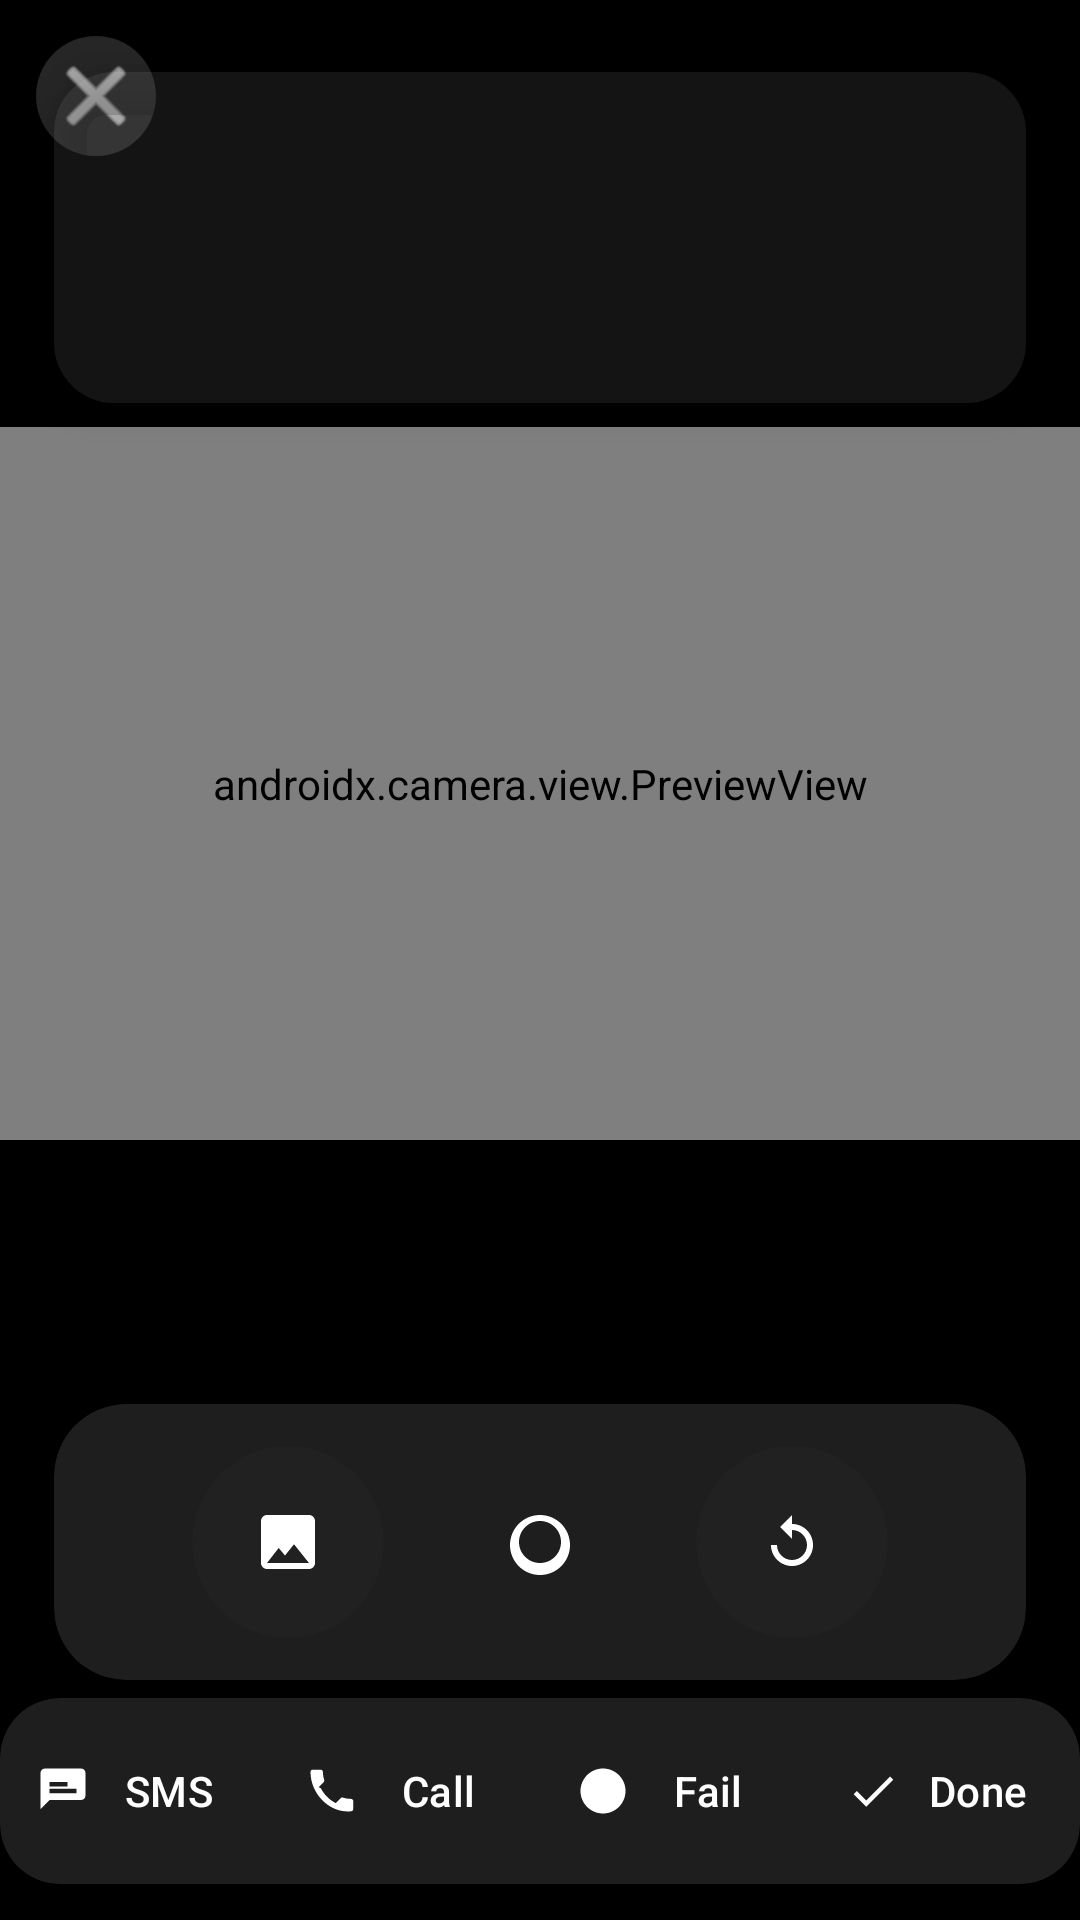

Where to tap for icons on this 1080 × 1920 app screen, as [x,y]:
close clear cancel: [96,96]
gallery: [288,1542]
retake: [792,1540]
shutter: [540,1545]
